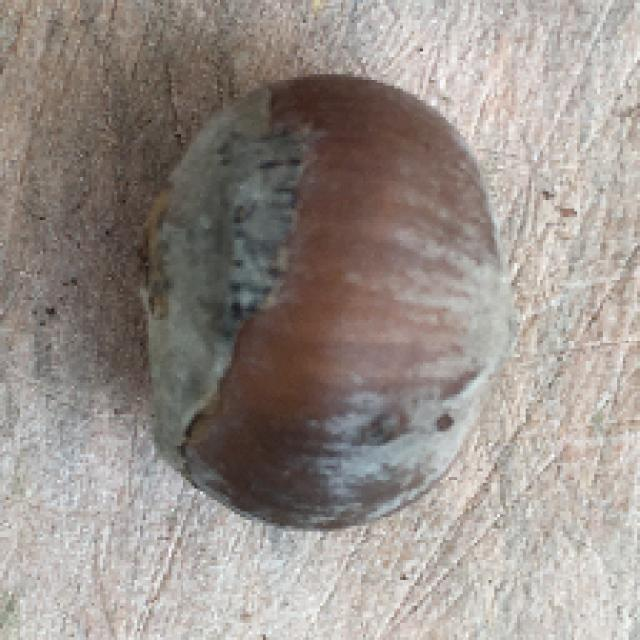damagedHazelnut: (129, 60, 504, 530)
